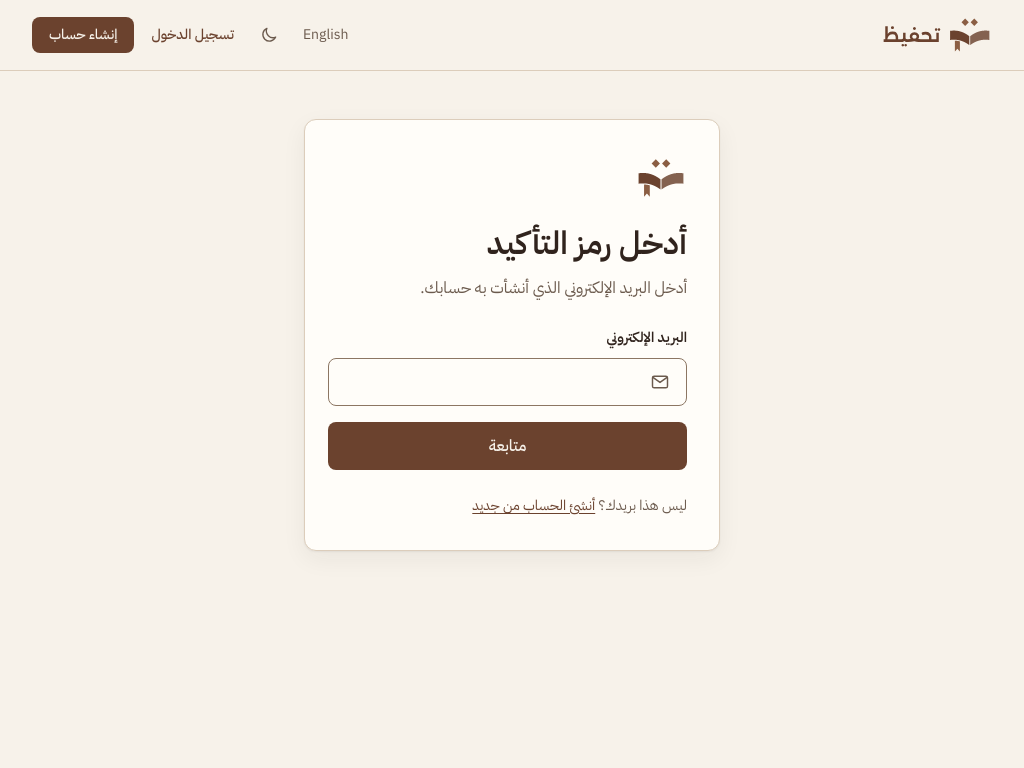
Test: email confirmation code › asks for the address when the page is opened on its own, and can send a new code at once
Type "omar@example.com" into the field labelled "البريد الإلكتروني" at (490, 382), box [329,359,650,405]
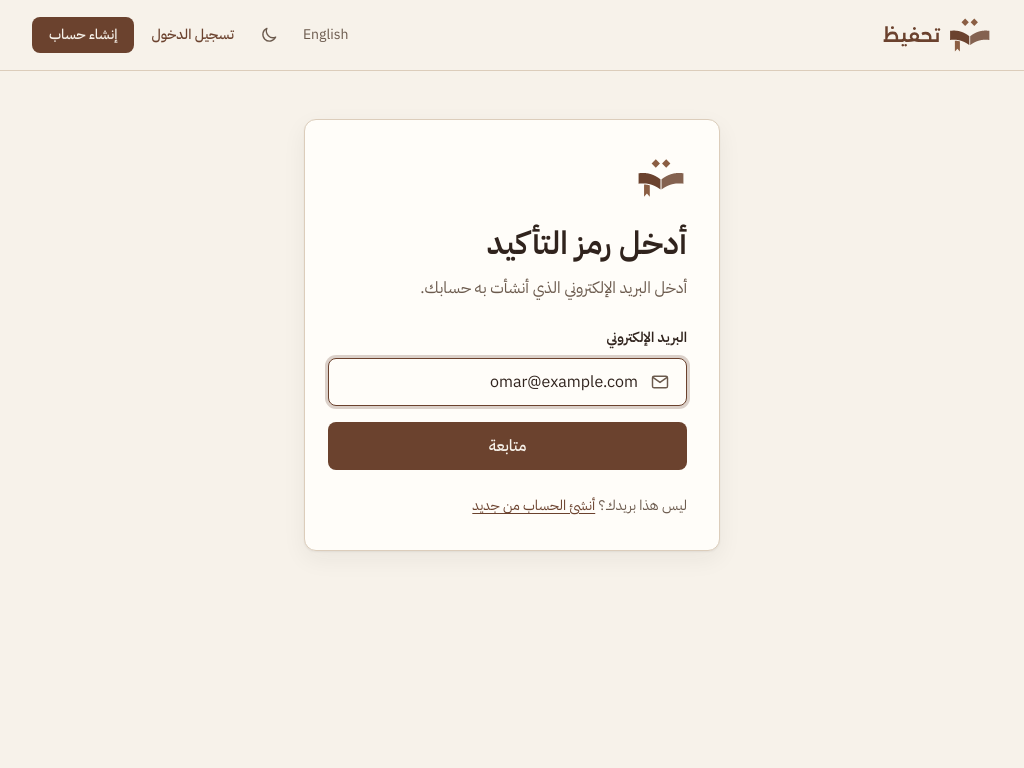
Click the button "متابعة" at (508, 446), box [328,422,687,470]
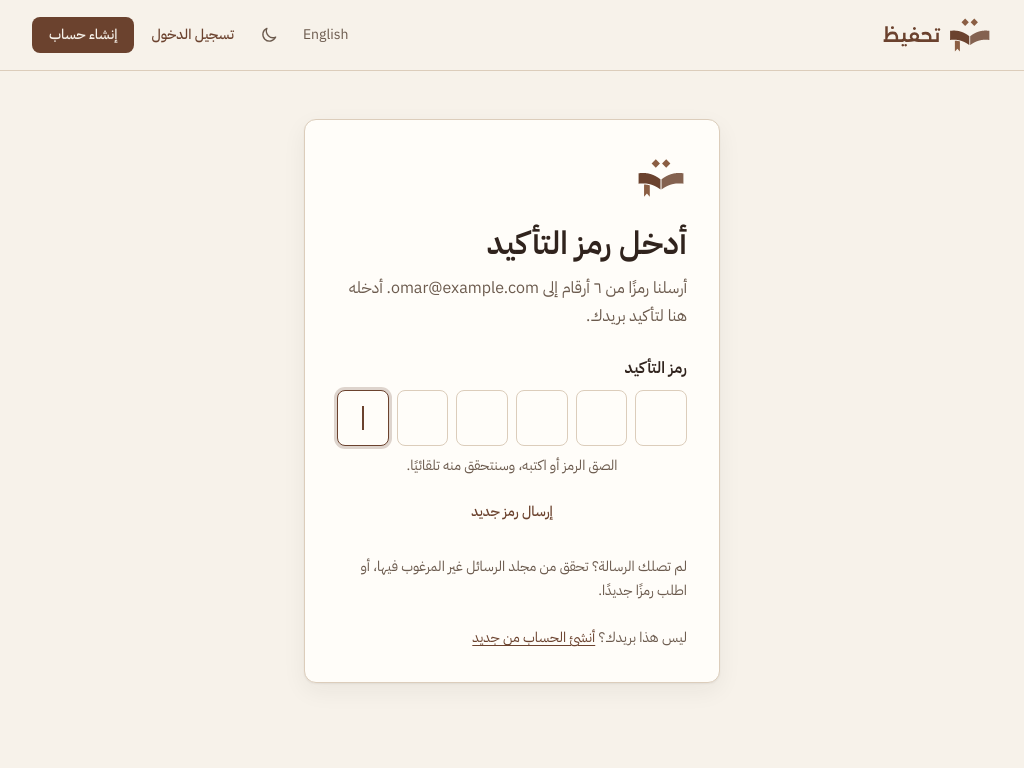
Click the button "إرسال رمز جديد" at (512, 513), box [458,495,566,531]
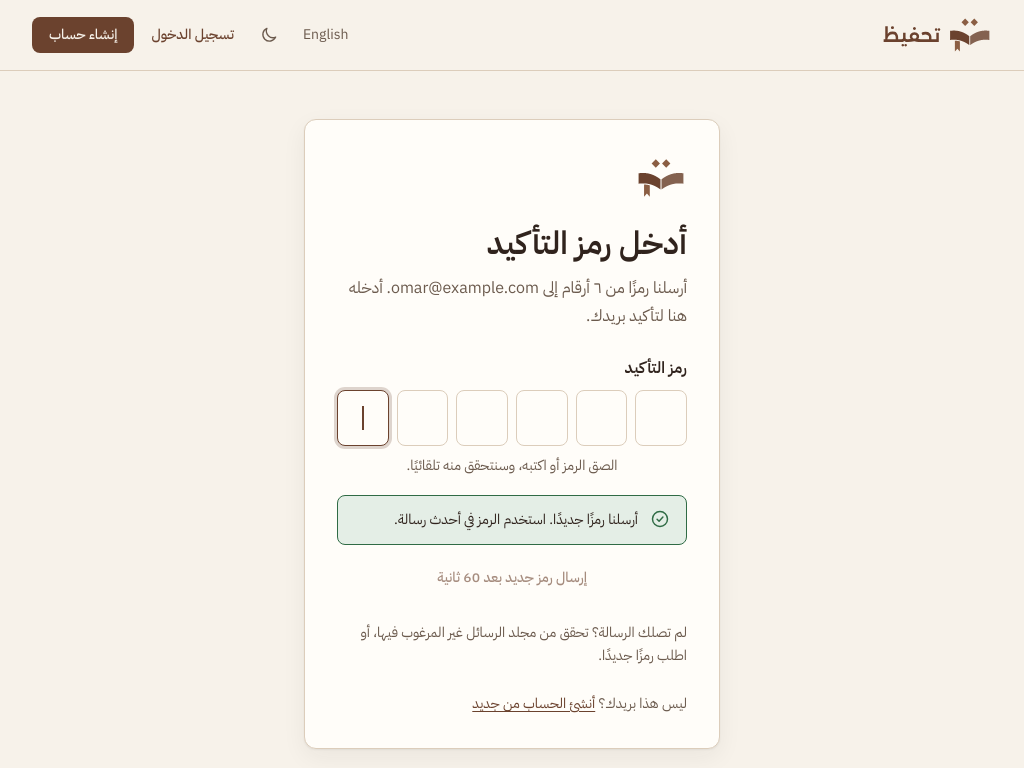
Check: the text "أرسلنا رمزًا جديدًا. استخدم الرمز في أحدث رسالة." is shown, box [354,508,638,532]
